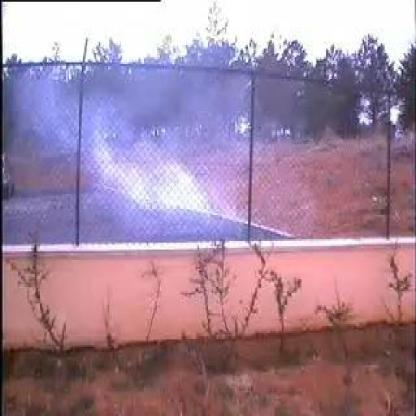-: (80, 75, 253, 246)
